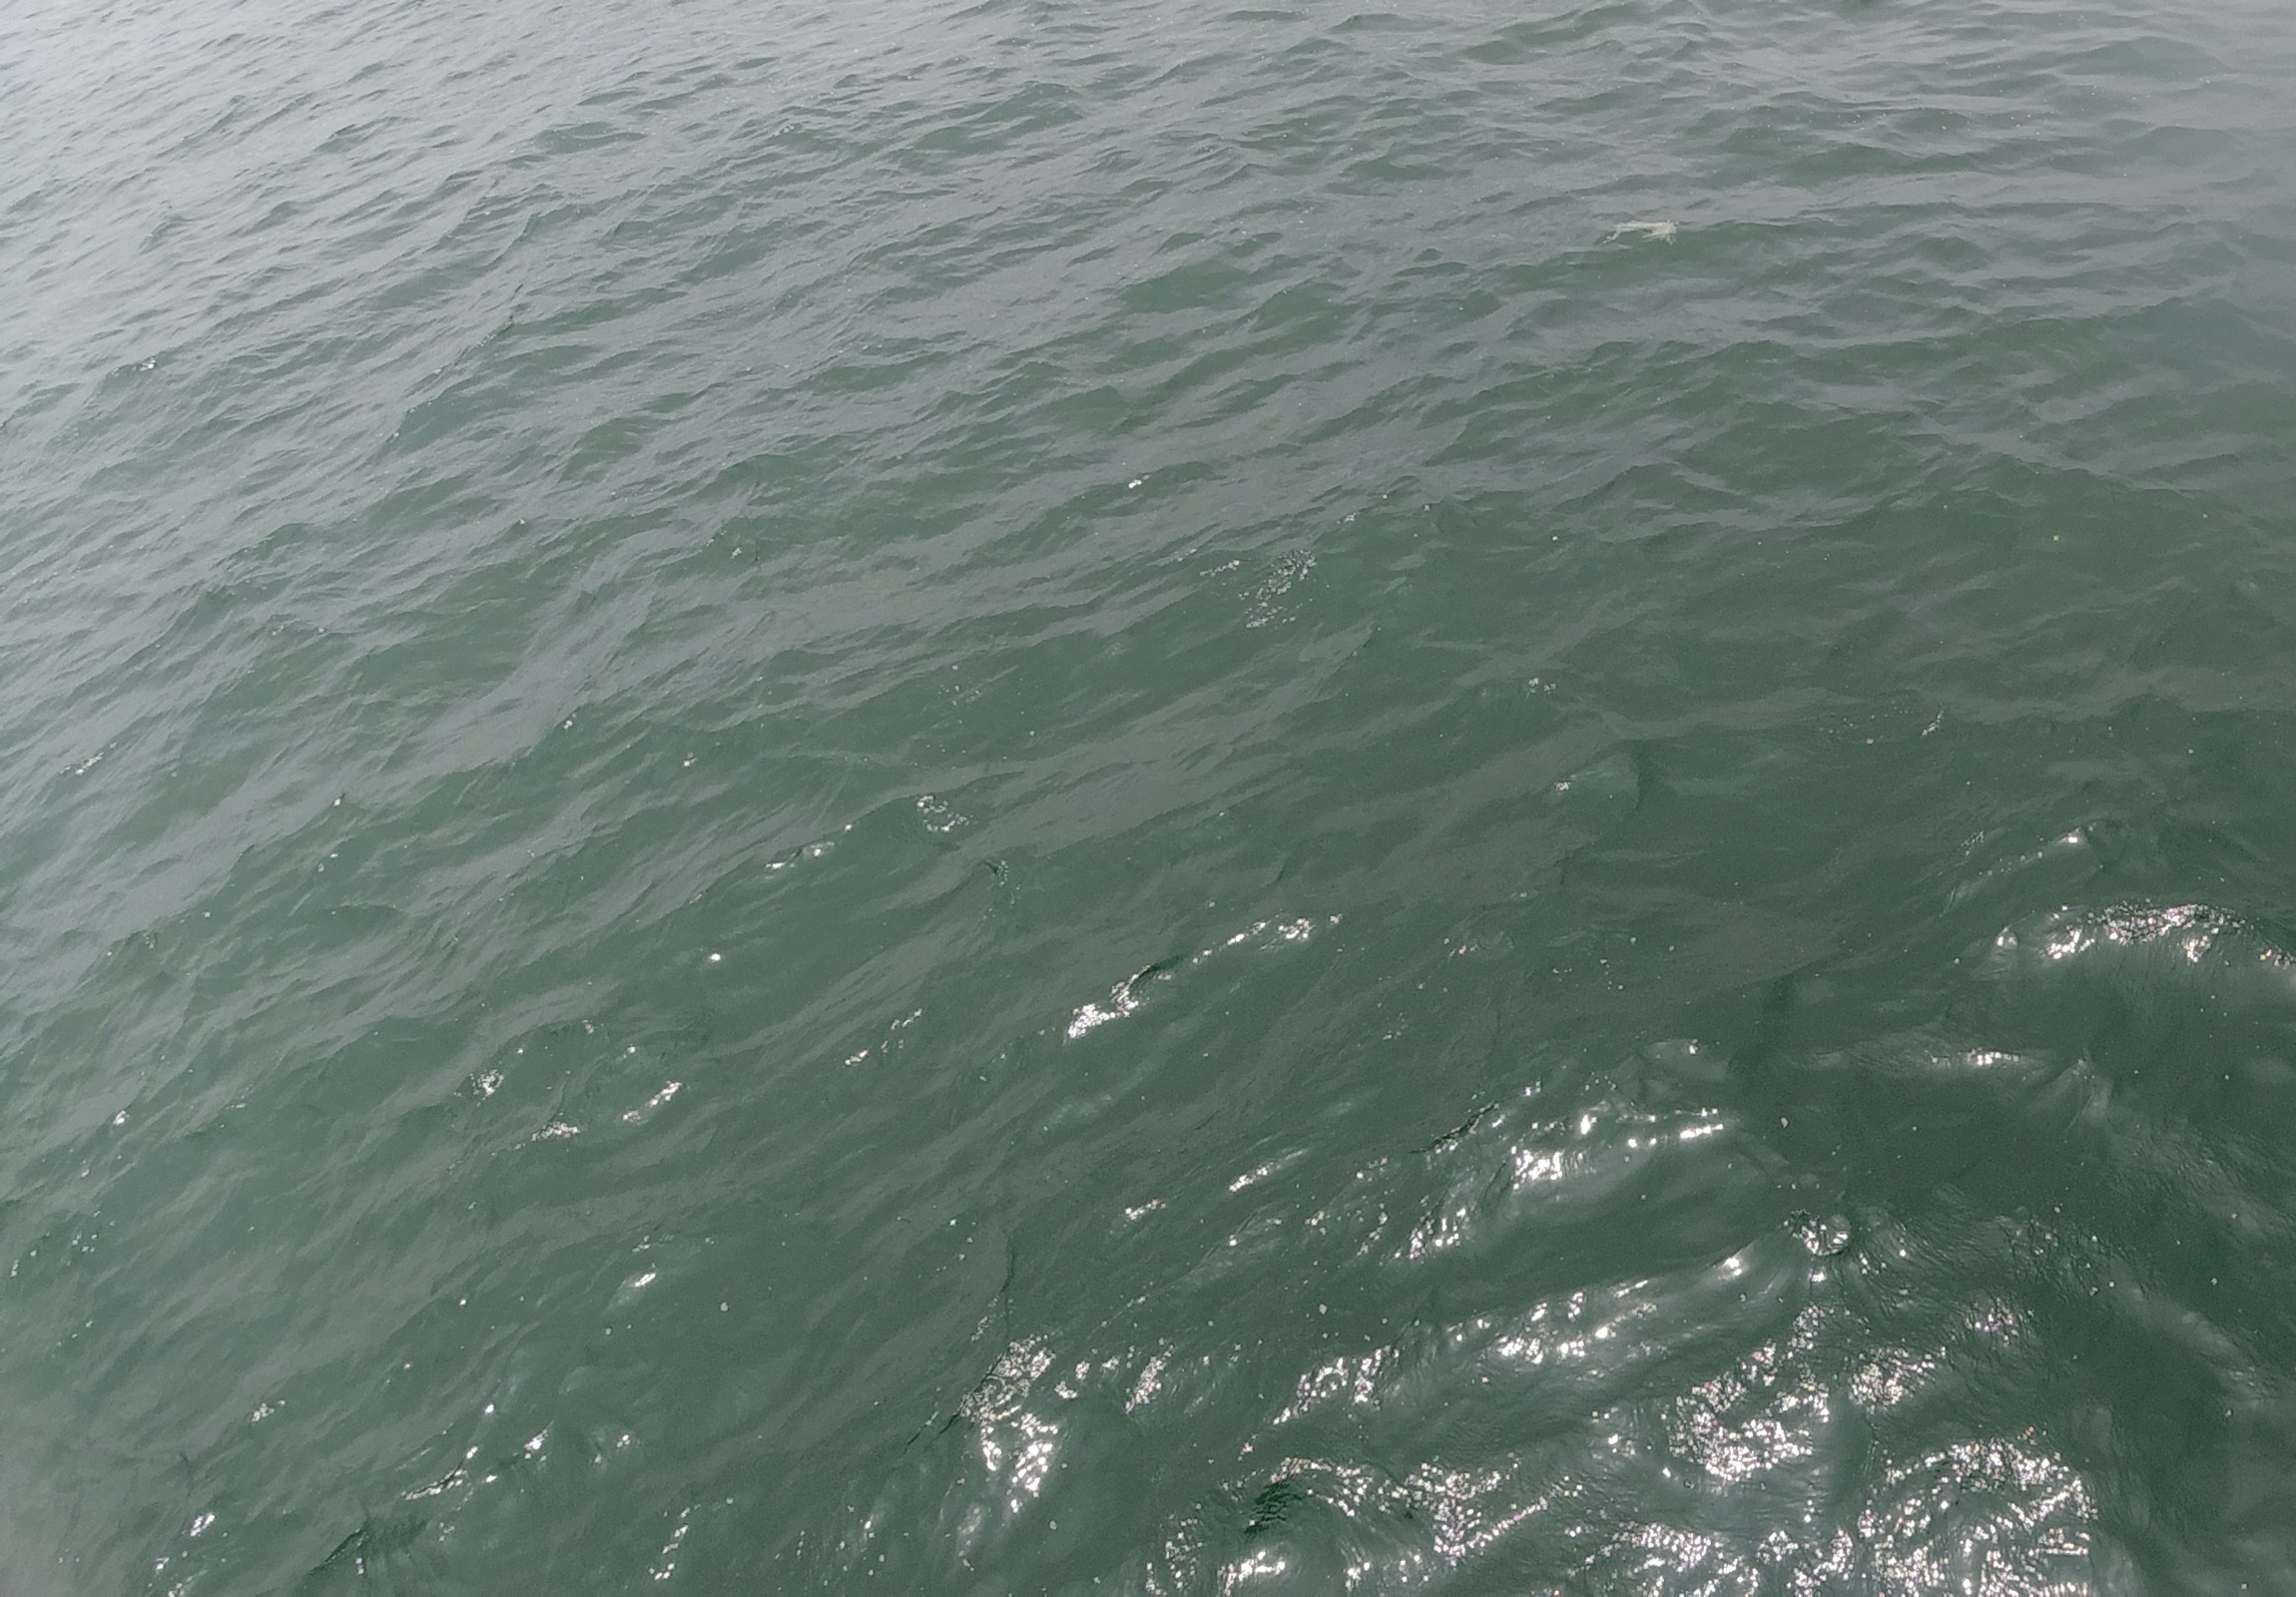plastic: (1588, 213, 1691, 258)
